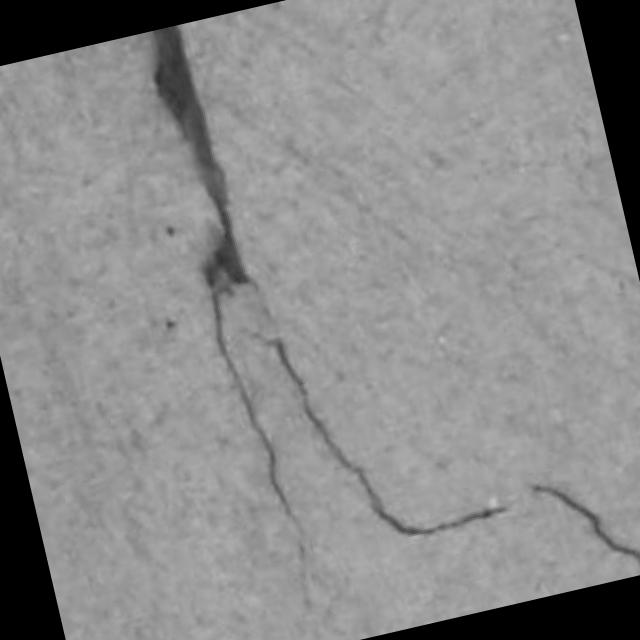crack: (154, 25, 298, 525), (272, 337, 505, 535), (155, 25, 248, 282), (532, 484, 639, 564)
